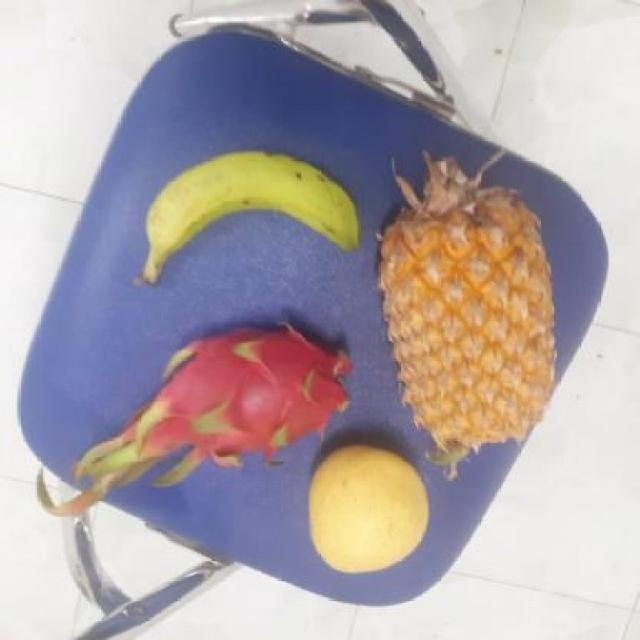banana: (127, 150, 353, 284)
dragon fruit: (126, 320, 352, 468)
pear: (305, 449, 432, 576)
pineapple: (374, 181, 554, 456)
